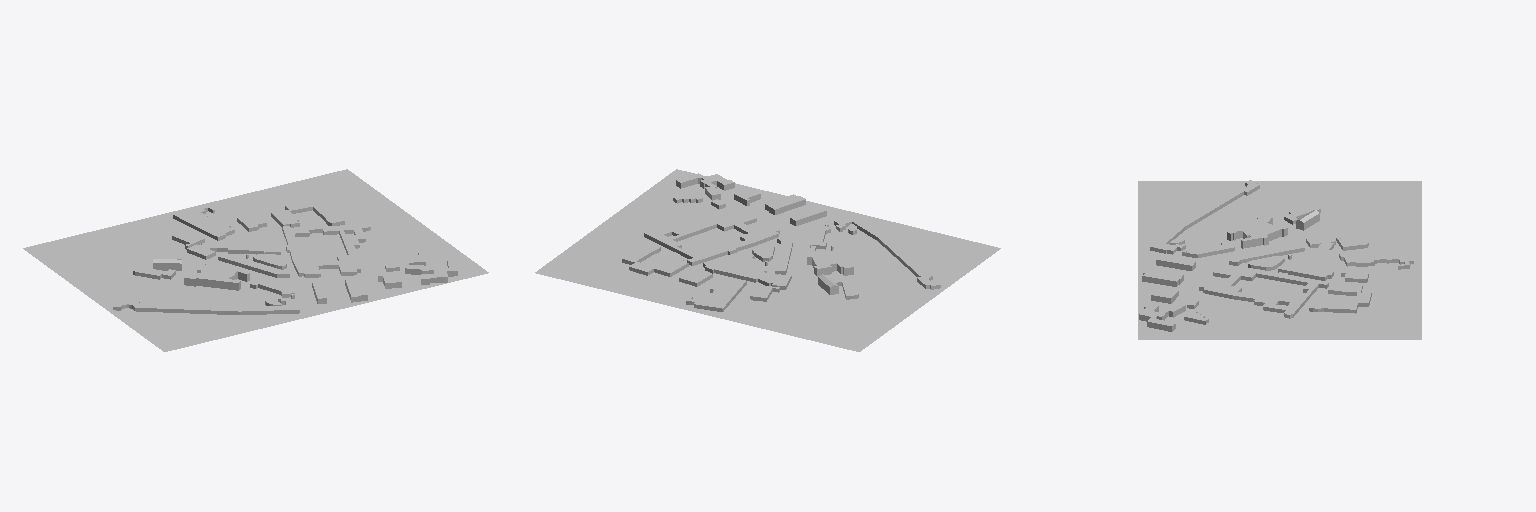
File: kth_campus_small_fliptest.obj
3 views of the same model, side by side, from view 1: azimuth 30°, elevation 25°; view 2: azimuth 150°, elevation 25°; view 3: azimuth 270°, elevation 25° (orthographic).
Bounding box in the file's own units: 0.5386 × 0.015 × 0.4079.